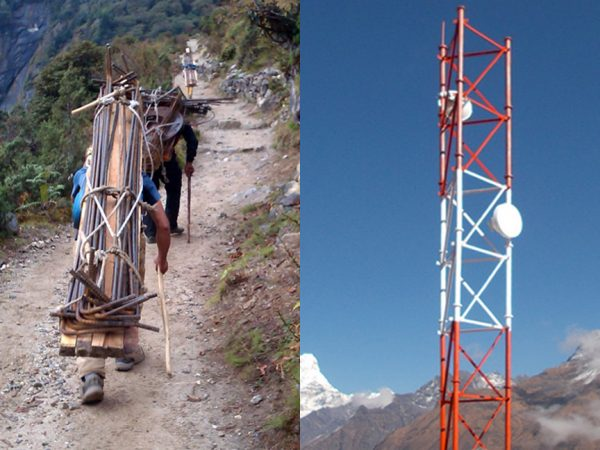ba: (481, 190, 529, 253), (435, 87, 481, 131)
